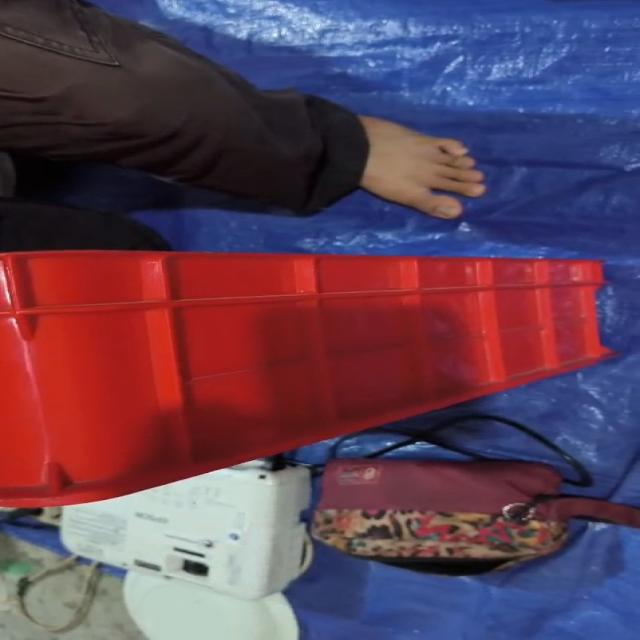red plastic box: (0, 250, 615, 508)
